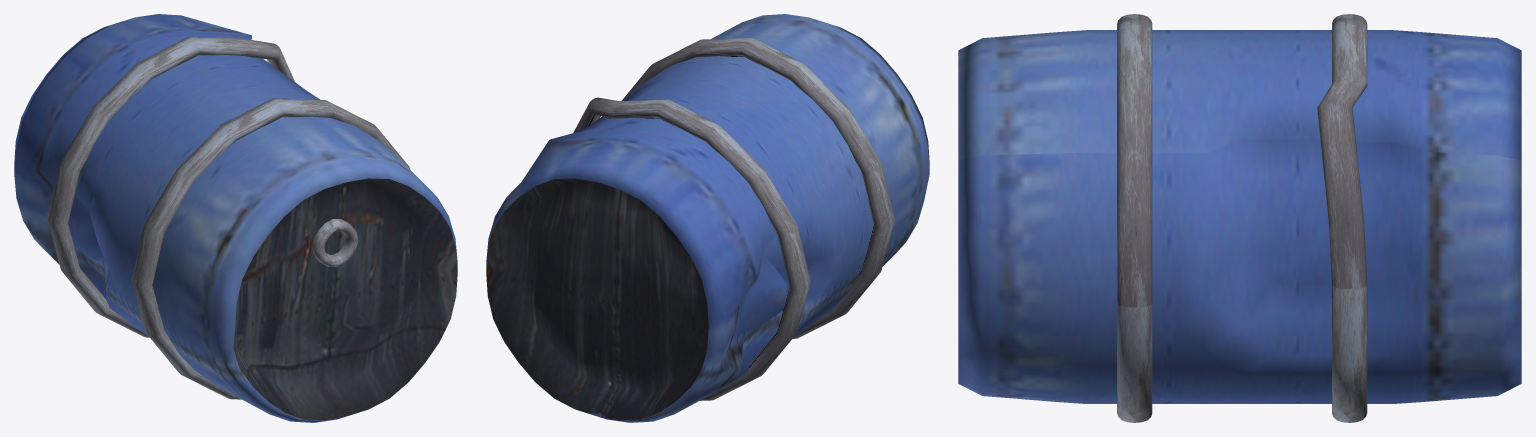
The model's file is Tonne.obj.
The picture shows the model from 3 angles, left to right: view 1: azimuth 30°, elevation 25°; view 2: azimuth 150°, elevation 25°; view 3: azimuth 270°, elevation 25°; orthographic projection. The views are drawn at different scales.
Parts seen in each view (by area): view 1: tonne, pasted__pPipe2 ring_2, ring_1, oeffnung; view 2: tonne, pasted__pPipe2 ring_2, ring_1; view 3: tonne, pasted__pPipe2 ring_2, ring_1.
Part boxes in pixels (x1,y1,x2,y2): tonne: [14, 14, 457, 422]; pasted__pPipe2 ring_2: [47, 36, 294, 337]; ring_1: [131, 98, 410, 399]; oeffnung: [311, 218, 358, 266]; tonne: [486, 14, 929, 422]; pasted__pPipe2 ring_2: [573, 97, 810, 400]; ring_1: [622, 38, 894, 338]; tonne: [958, 30, 1521, 403]; pasted__pPipe2 ring_2: [1317, 14, 1367, 422]; ring_1: [1117, 14, 1152, 422].
Size of the model in its own units: 8.92 by 8.92 by 11.95.
